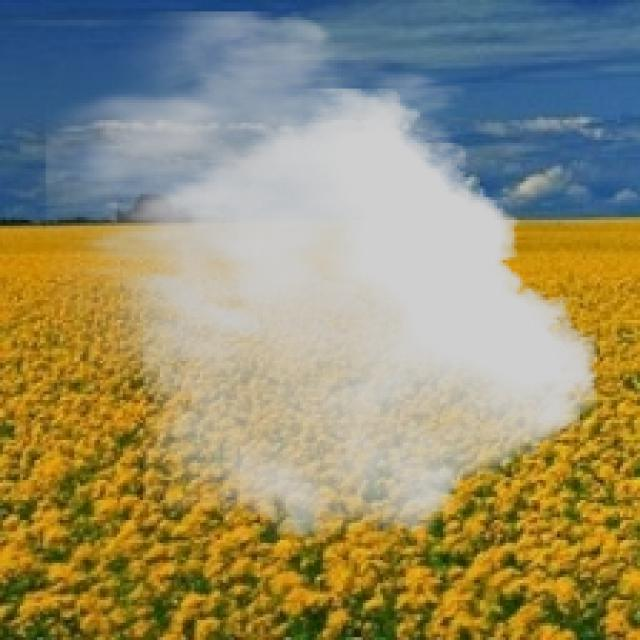smoke: (46, 11, 597, 540)
